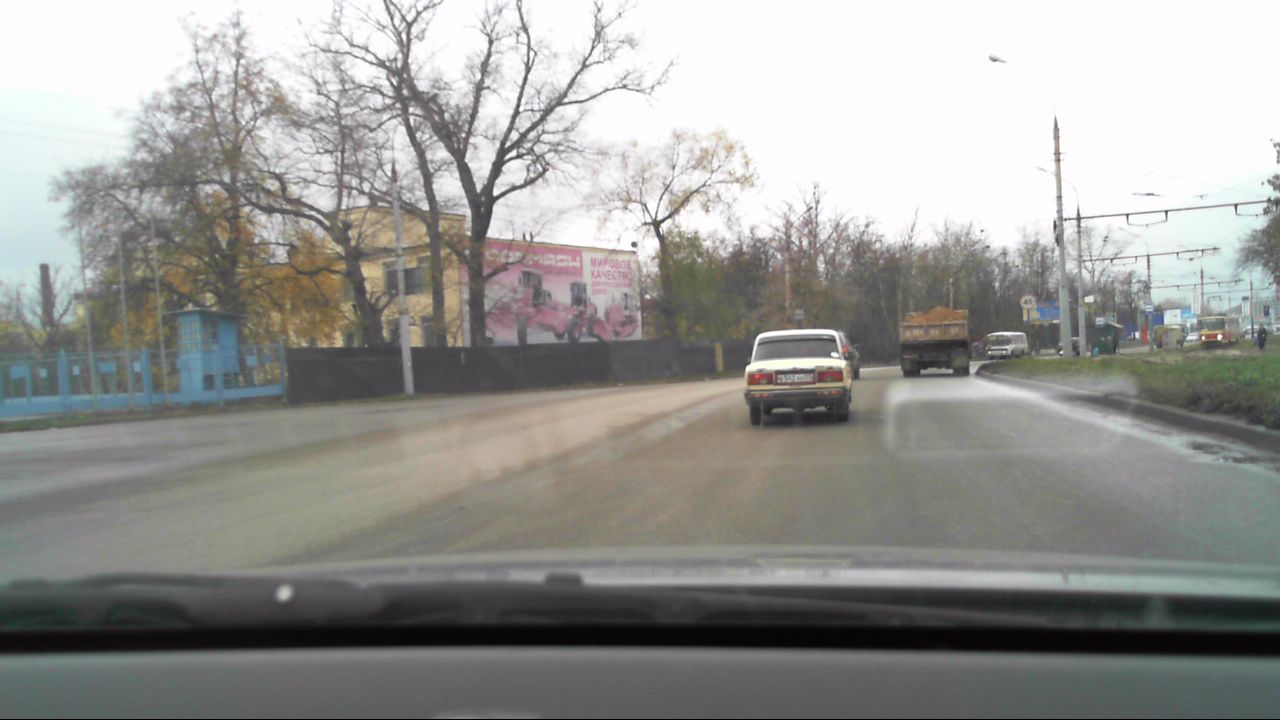speed_warning_40: (1018, 291, 1038, 312)
